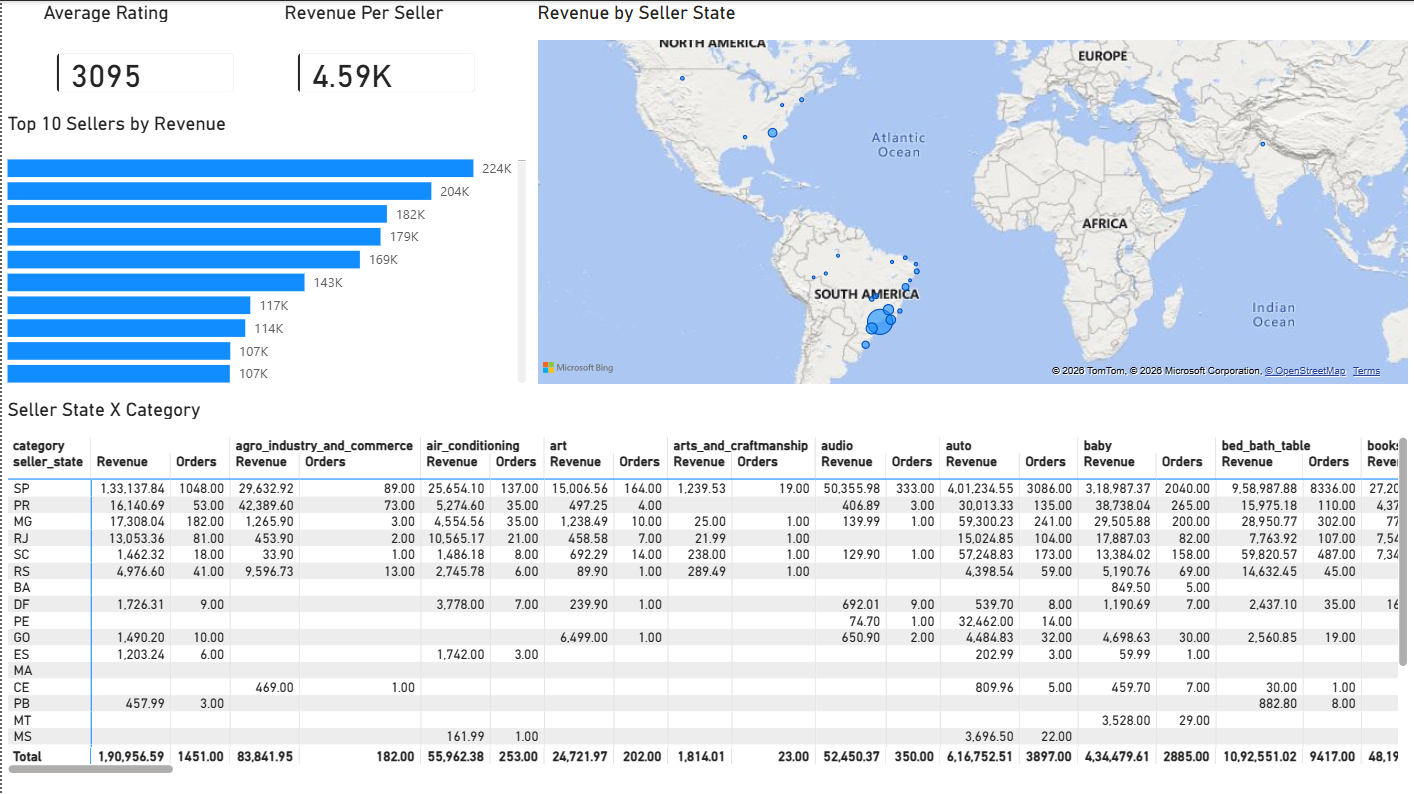

The page's visual inventory and layout, read from the dashboard file:
{"tool":"powerbi","page":{"name":"SELLERS","canvas":[1280,720],"ordinal":7},"visuals":[{"type":"cardVisual","title":"Revenue Per Seller","fields":{"Data":["public bi_fact_sales.Revenue per Seller"]},"box":[250.9,0,195.5,100.9],"z":0},{"type":"cardVisual","title":"Average Rating","fields":{"Data":["public bi_fact_sales.Sellers"]},"box":[32.7,0,195.5,100.9],"z":1000},{"type":"map","title":"Revenue by Seller State","fields":{"Size":["public bi_fact_sales.Revenue"],"Category":["public bi_fact_sales.seller_state"]},"box":[480.9,0,799.1,351.8],"z":2000},{"type":"clusteredBarChart","title":"Top 10 Sellers by Revenue","fields":{"Y":["public bi_fact_sales.Revenue"],"Category":["public bi_fact_sales.seller_id"]},"box":[0,100.9,480.5,250.9],"z":3000},{"type":"pivotTable","title":"Seller State X Category","fields":{"Values":["public bi_fact_sales.Revenue","public bi_fact_sales.Orders"],"Columns":["public bi_fact_sales.category"],"Rows":["public bi_fact_sales.seller_state"]},"box":[0,360,1280,346.4],"z":4000}]}

Visuals, with their boxes in screenshot pixels (x1, y1, x2, y2), scaled from the page's 1280x720 canvas onto the 1414x794 screenshot:
"Revenue Per Seller" cardVisual: 277/0/493/111
"Average Rating" cardVisual: 36/0/252/111
"Revenue by Seller State" map: 531/0/1413/388
"Top 10 Sellers by Revenue" clusteredBarChart: 0/111/531/388
"Seller State X Category" pivotTable: 0/397/1413/779
